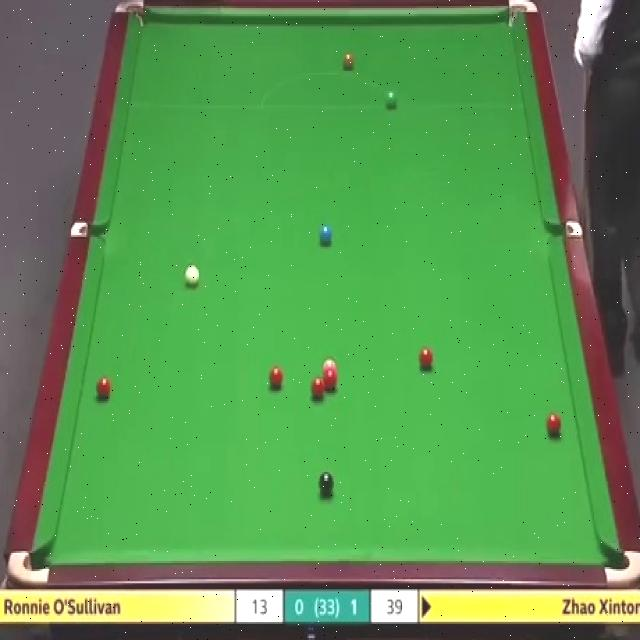black-ball: (318, 470, 334, 496)
blue-ball: (319, 223, 333, 245)
brown-ball: (342, 52, 354, 72)
green-ball: (384, 89, 397, 109)
pink-ball: (322, 358, 338, 373)
red-ball: (96, 374, 112, 401), (546, 414, 563, 437), (418, 347, 433, 371), (322, 370, 338, 391), (268, 367, 283, 389), (311, 376, 325, 399)
white-ball: (182, 263, 200, 288)
